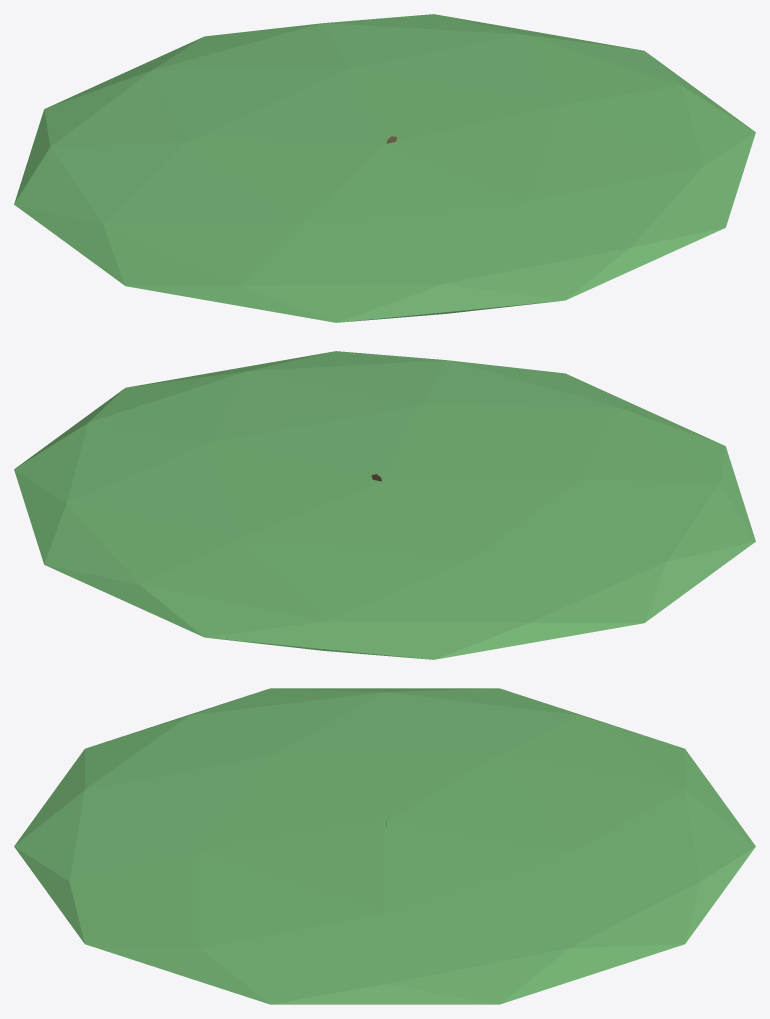
File: drk_terrain.fbx
3 views of the same model, one above another, from view 1: azimuth 30°, elevation 25°; view 2: azimuth 150°, elevation 25°; view 3: azimuth 270°, elevation 25° (orthographic). The views are drawn at different scales.
Parts seen in each view (by area): view 1: GEO-terrain; view 2: GEO-terrain; view 3: GEO-terrain.
Boxes of the visible parts, x1=… form: GEO-terrain: x1=14, y1=14, x2=755, y2=322; GEO-terrain: x1=14, y1=351, x2=755, y2=659; GEO-terrain: x1=14, y1=688, x2=755, y2=1004.
Size of the model in its own units: 33287 by 2840 by 33000.
